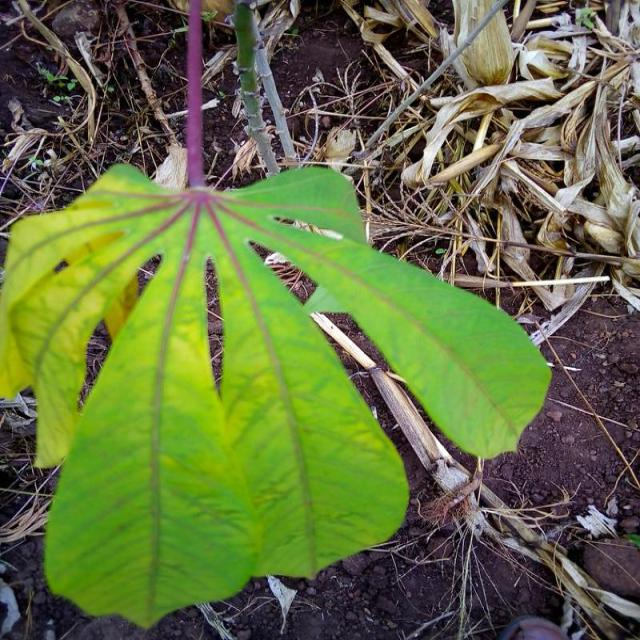cassava leaf: (1, 154, 554, 629)
